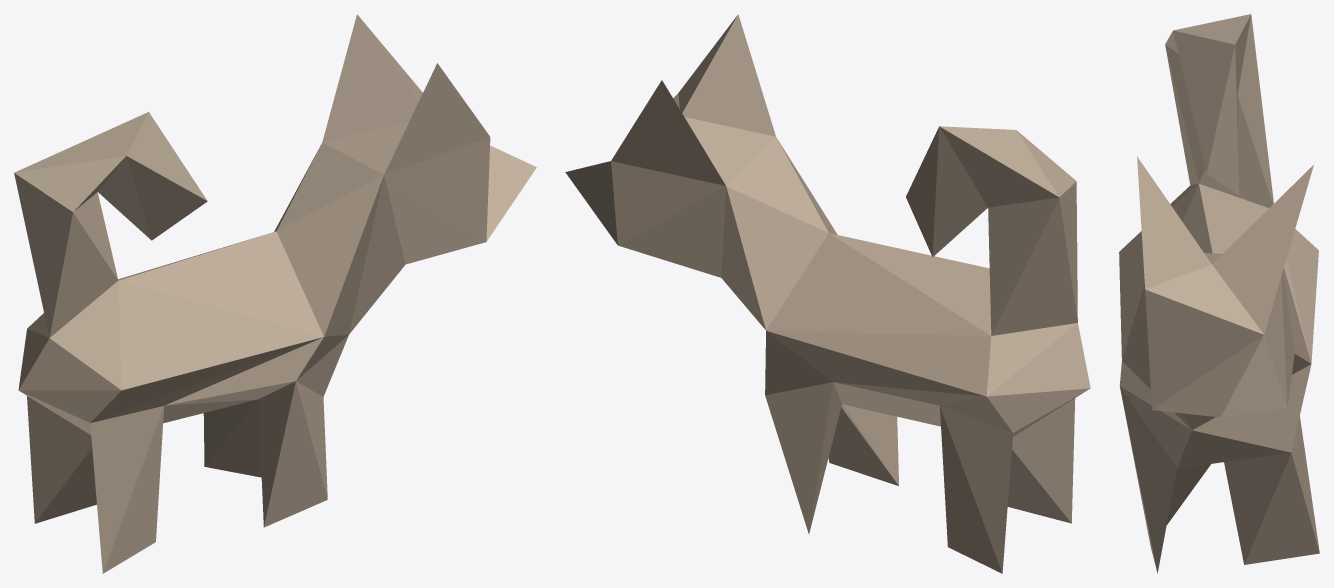
The picture shows the model from 3 angles, left to right: view 1: azimuth 30°, elevation 25°; view 2: azimuth 150°, elevation 25°; view 3: azimuth 270°, elevation 25°; orthographic projection. The views are drawn at different scales.
Visible parts, largest first — view 1: part0; view 2: part0; view 3: part0.
Part boxes in pixels (x1=…): part0: x1=14, y1=14, x2=536, y2=573; part0: x1=565, y1=14, x2=1090, y2=573; part0: x1=1119, y1=14, x2=1319, y2=573.
Bounding box in the file's own units: 3.15 × 2.48 × 0.9283.
